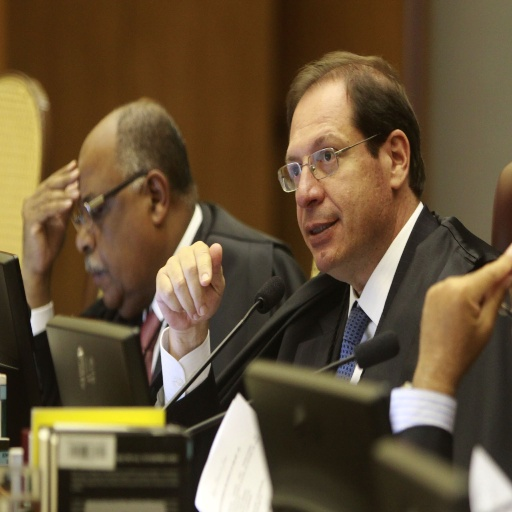hand: (418, 243, 511, 377), (151, 230, 222, 351), (21, 156, 79, 274)
